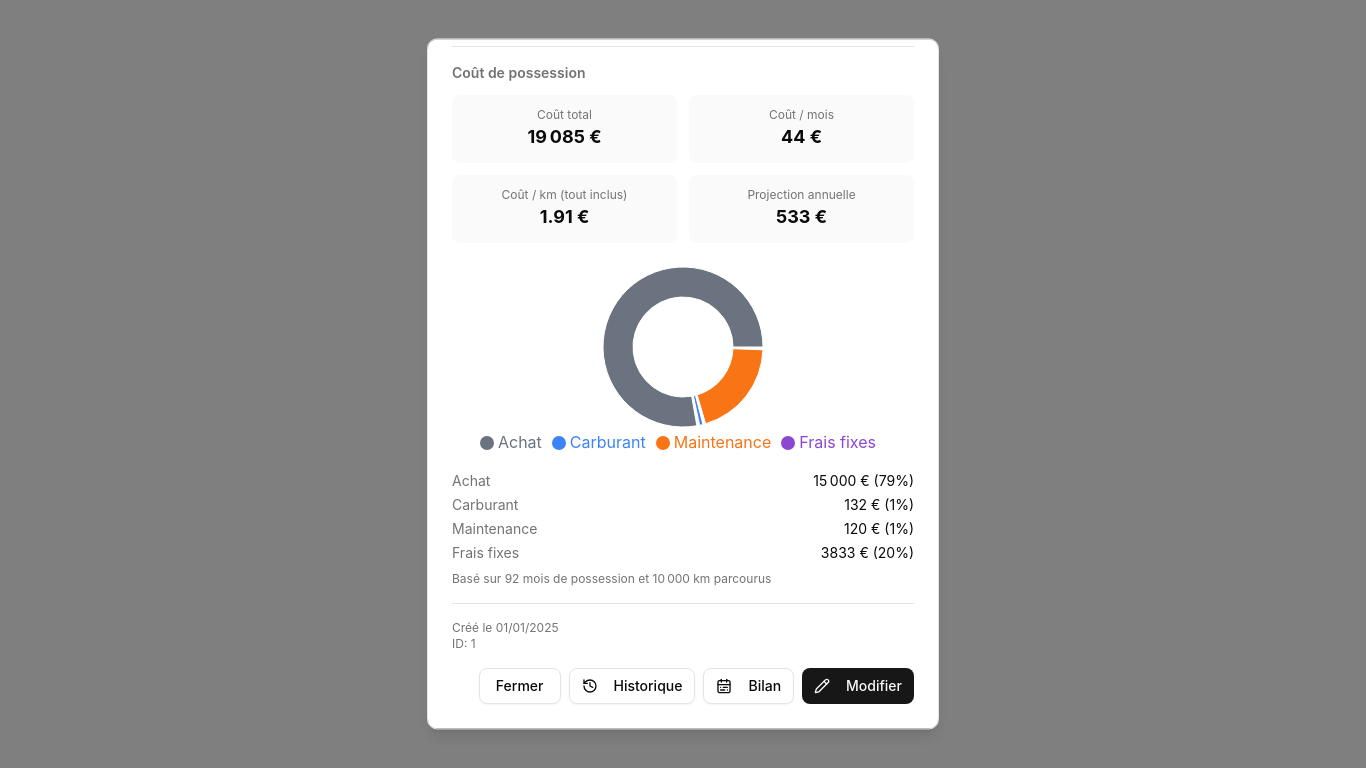
Test case: VehicleDetailsDialog › opens the period-bilan dialog from the Bilan button
(page scrolled)
Click the button "Bilan": (749, 686) [703, 668, 794, 704]
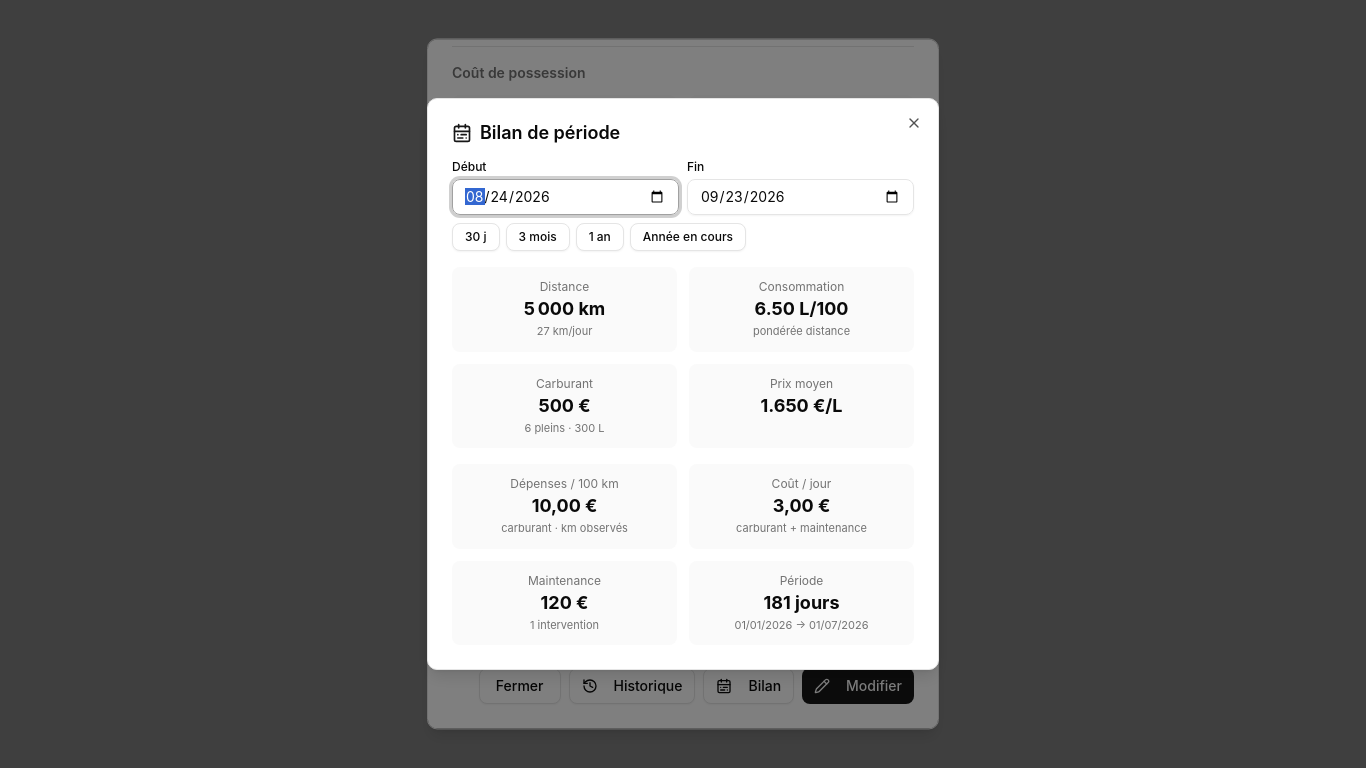
Now the heading "Bilan de période" is shown, box [452, 122, 620, 143]
